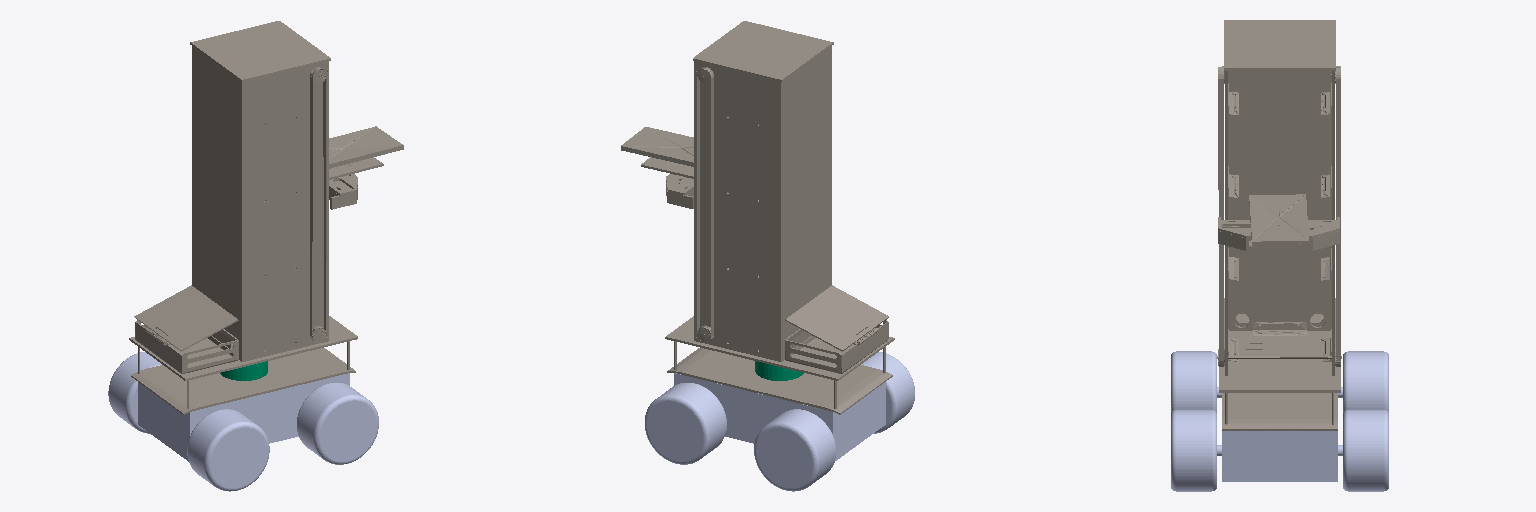
robot.urdf — assembly_urdf:
<?xml version="1.0" encoding="utf-8"?>
<!-- This URDF was automatically created by SolidWorks to URDF Exporter! Originally created by [author] ([email redacted]) 
     Commit Version: 1.6.0-4-g7f85cfe  Build Version: 1.6.7995.38578
     For more information, please see http://wiki.ros.org/sw_urdf_exporter -->
<robot
  name="assembly_urdf">
  <link
    name="base_link">
    <inertial>
      <origin
        xyz="-8.2112E-05 1.6653E-16 0.027016"    
        rpy="0 0 0" />
      <mass
        value="20" />
      <inertia
        ixx="0.013351"
        ixy="7.6799E-18"
        ixz="1.0856E-05"
        iyy="0.030427"
        iyz="-4.6222E-18"
        izz="0.039051" />
    </inertial>
    <visual>
      <origin
        xyz="0 0 0"
        rpy="0 0 0" />
      <geometry>
        <mesh
          filename="package://ugv/meshes/base_link.STL" />
      </geometry>
      <material
        name="iron">
        <color
          rgba="0.79216 0.81961 0.93333 1" />
      </material>
    </visual>
    <collision>
      <origin
        xyz="0 0 0"
        rpy="0 0 0" />
      <geometry>
        <mesh
          filename="package://ugv/meshes/base_link.STL" />
      </geometry>
    </collision>
  </link>

 <link
    name="mech_body_link">
    <inertial>
      <origin
        xyz="-0.00066907 -0.00010039 0.26625"
        rpy="0 0 0" />
      <mass
        value="1" />
      <inertia
        ixx="0.5342"
        ixy="-5.1885E-06"
        ixz="-0.00017749"
        iyy="0.58665"
        iyz="-2.9263E-10"
        izz="0.13785" />
    </inertial>
    <visual>
      <origin
        xyz="-0.21 -0.117 -0.15"
        rpy="0 0 0" />
      <geometry>
        <mesh
          filename="package://assembly_urdf/meshes/mech_body_link.STL" />
      </geometry>
      <material
        name="">
        <color
          rgba="0.65098 0.61961 0.58824 1" />
      </material>
    </visual>
    <collision>
      <origin
        xyz="-0.21 -0.117 -0.15"
        rpy="0 0 0" />
      <geometry>
        <mesh
          filename="package://assembly_urdf/meshes/mech_body_link.STL" />
      </geometry>
    </collision>
  </link>
   <joint
    name="mech_body_joint"
    type="fixed">
    <origin
      xyz="0 0 0.1"
      rpy="0 0 0" />
    <parent
      link="base_link" />
    <child
      link="mech_body_link" />
  </joint>
<link
    name="lifter_link1">
    <inertial>
      <origin
        xyz="-0.0010917 0.0024631 0.015031"
        rpy="0 0 0" />
      <mass
        value="0.1333" />
      <inertia
        ixx="0.006032"
        ixy="1.8666E-05"
        ixz="1.6901E-05"
        iyy="0.00074855"
        iyz="-5.4338E-18"
        izz="0.0066802" />
    </inertial>
    <visual>
      <origin
        xyz="0 0 0"
        rpy="0 0 0" />
      <geometry>
        <mesh
          filename="package://assembly_urdf/meshes/lifter_link.STL" />
      </geometry>
      <material
        name="">
        <color
          rgba="0.65098 0.61961 0.58824 1" />
      </material>
    </visual>
    <collision>
      <origin
        xyz="0 0 0"
        rpy="0 0 0" />
      <geometry>
        <mesh
          filename="package://assembly_urdf/meshes/lifter_link.STL" />
      </geometry>
    </collision>
  </link>
  <joint
    name="lifter_joint1"
    type="prismatic">
    <origin
      xyz="0.14 -0.115 0"
      rpy="0 0 0" />
    <parent
      link="mech_body_link" />
    <child
      link="lifter_link1" />
    <axis
      xyz="0 0 1" />
    <limit
      lower="0.12"
      upper="0.65"
      effort="0"
      velocity="0.5" />
  </joint>
<link
    name="lifter_link2">
    <inertial>
      <origin
        xyz="-0.0010917 0.0024631 0.015031"
        rpy="0 0 0" />
      <mass
        value="0.1333" />
      <inertia
        ixx="0.006032"
        ixy="1.8666E-05"
        ixz="1.6901E-05"
        iyy="0.00074855"
        iyz="-5.4338E-18"
        izz="0.0066802" />
    </inertial>
    <visual>
      <origin
        xyz="0 -0.23 0"
        rpy="0 0 0" />
      <geometry>
        <mesh
          filename="package://assembly_urdf/meshes/lifter_link.STL" />
      </geometry>
      <material
        name="">
        <color
          rgba="0.65098 0.61961 0.58824 1" />
      </material>
    </visual>
    <collision>
      <origin
        xyz="0 0.23 0"
        rpy="0 0 0" />
      <geometry>
        <mesh
          filename="package://assembly_urdf/meshes/lifter_link.STL" />
      </geometry>
    </collision>
  </link>
  <joint
    name="lifter_joint2"
    type="prismatic">
    <origin
      xyz="0.14 0.115 0"
      rpy="0 0 0" />
    <parent
      link="mech_body_link" />
    <child
      link="lifter_link2" />
    <axis
      xyz="0 0 1" />
    <limit
      lower="0.12"
      upper="0.65"
      effort="0"
      velocity="0.5" />
    <mimic joint="lifter_joint1" multiplier="1.0" offset="0.0"/>
  </joint>

 <link
    name="revolute_link">
    <inertial>
      <origin
        xyz="0.0025745 7.0102E-05 0.002418"
        rpy="0 0 0" />
      <mass
        value="0.24127" />
      <inertia
        ixx="0.00082987"
        ixy="-6.3952E-05"
        ixz="8.2136E-09"
        iyy="0.0031767"
        iyz="1.9093E-10"
        izz="0.0040013" />
    </inertial>
    <visual>
      <origin
        xyz="-0.105 -0.0575 0"
        rpy="0 0 0" />
      <geometry>
        <mesh
          filename="package://assembly_urdf/meshes/revolute_link.STL" />
      </geometry>
      <material
        name="">
        <color
          rgba="0.64706 0.61961 0.58824 1" />
      </material>
    </visual>
    <collision>
      <origin
        xyz="0.055 0.115 0.031"
        rpy="0 0 0" />
      <geometry>
        <mesh
          filename="package://assembly_urdf/meshes/revolute_link.STL" />
      </geometry>
    </collision>
  </link>
  <joint
    name="revolute_joint"
    type="revolute">
    <origin
      xyz="0.055 0.115 0.031"
      rpy="0 0 0" />
    <parent
      link="lifter_link1" />
    <child
      link="revolute_link" />
    <axis
      xyz="0 0 1" />
    <limit
      lower="-0.823599"
      upper="0.823599"
      effort="0"
      velocity="0" />
  </joint>
 <link
    name="slider_link">
    <inertial>
      <origin
        xyz="-6.8974E-08 -0.0017422 0.0079516"
        rpy="0 0 0" />
      <mass
        value="0.31656" />
      <inertia
        ixx="0.0028731"
        ixy="-8.5834E-13"
        ixz="-2.0401E-11"
        iyy="0.0036775"
        iyz="-2.4369E-09"
        izz="0.00080775" />
    </inertial>
    <visual>
      <origin
        xyz="-0.055 -0.0575 0.031"
        rpy="1.5708 0 1.598" />
      <geometry>
        <mesh
          filename="package://assembly_urdf/meshes/slider_link.STL" />
      </geometry>
      <material
        name="">
        <color
          rgba="0.65098 0.61961 0.58824 1" />
      </material>
    </visual>
    <collision>
      <origin
        xyz="0.055 0.0575 0.031"
        rpy="1.5708 0 1.598" />
      <geometry>
        <mesh
          filename="package://assembly_urdf/meshes/slider_link.STL" />
      </geometry>
    </collision>
  </link>
  <joint
    name="slider_joint"
    type="prismatic">
    <origin
      xyz="0 0 0"
      rpy="0 0 0" />
    <parent
      link="revolute_link" />
    <child
      link="slider_link" />
    <axis
      xyz="1 0 0" />
    <limit
      lower="-0.14366"
      upper="0.12776"
      effort="0"
      velocity="0" />
  </joint> 
   <link
    name="WR1-link">
    <inertial>
      <origin
        xyz="0 0.043367 2.7756E-17"
        rpy="0 0 0" />
      <mass
        value="0.561" />
      <inertia
        ixx="0.0031906"
        ixy="2.0347E-19"
        ixz="-6.8359E-20"
        iyy="0.0044645"
        iyz="1.1704E-19"
        izz="0.0031906" />
    </inertial>
    <visual>
      <origin
        xyz="0 0 0"
        rpy="0 0 0" />
      <geometry>
        <mesh
          filename="package://ugv/meshes/FR-link.STL" />
      </geometry>
      <material
        name="">
        <color
          rgba="0.79216 0.81961 0.93333 1" />
      </material>
    </visual>
    <collision>
      <origin
        xyz="0 0 0"
        rpy="0 0 0" />
      <geometry>
        <mesh
          filename="package://ugv/meshes/FR-link.STL" />
      </geometry>
    </collision>
  </link>
  <joint
    name="WR1-joint"
    type="continuous">
    <origin
      xyz="0.1285 -0.20347 0.0262"
      rpy="0 0 0" />
    <parent
      link="base_link" />
    <child
      link="WR1-link" />
    <axis
      xyz="0 1 0" />
  </joint>
  <link
    name="WL1-link">
    <inertial>
      <origin
        xyz="-3.4694E-18 -0.043367 2.7756E-17"
        rpy="0 0 0" />
      <mass
        value="0.561" />
      <inertia
        ixx="0.0031906"
        ixy="1.547E-19"
        ixz="-2.1838E-19"
        iyy="0.0044645"
        iyz="3.7794E-20"
        izz="0.0031906" />
    </inertial>
    <visual>
      <origin
        xyz="0 0 0"
        rpy="0 0 0" />
      <geometry>
        <mesh
          filename="package://ugv/meshes/BL-link.STL" />
      </geometry>
      <material
        name="">
        <color
          rgba="0.79216 0.81961 0.93333 1" />
      </material>
    </visual>
    <collision>
      <origin
        xyz="0 0 0"
        rpy="0 0 0" />
      <geometry>
        <mesh
          filename="package://ugv/meshes/BL-link.STL" />
      </geometry>
    </collision>
  </link>
  <joint
    name="WL1-joint"
    type="continuous">
    <origin
      xyz="-0.1285 0.20347 0.0262"
      rpy="0 0 0" />
    <parent
      link="base_link" />
    <child
      link="WL1-link" />
    <axis
      xyz="0 1 0" />
  </joint>
  <link
    name="WR2-link">
    <inertial>
      <origin
        xyz="6.9389E-18 0.043367 2.7756E-17"
        rpy="0 0 0" />
      <mass
        value="0.561" />
      <inertia
        ixx="0.0031906"
        ixy="1.6445E-19"
        ixz="-1.0362E-38"
        iyy="0.0044645"
        iyz="6.7508E-36"
        izz="0.0031906" />
    </inertial>
    <visual>
      <origin
        xyz="0 0 0"
        rpy="0 0 0" />
      <geometry>
        <mesh
          filename="package://ugv/meshes/BR-link.STL" />
      </geometry>
      <material
        name="">
        <color
          rgba="0.79216 0.81961 0.93333 1" />
      </material>
    </visual>
    <collision>
      <origin
      xyz="0 0 0"
      rpy="1 0 0" />
      <geometry>
        <mesh
          filename="package://ugv/meshes/BR-link.STL" />
      </geometry>
    </collision>
  </link>
  <joint
    name="WR2-joint"
    type="continuous">
    <origin
      xyz="-0.1285 -0.20347 0.0262"
      rpy="0 0 0" />
    <parent
      link="base_link" />
    <child
      link="WR2-link" />
    <axis
      xyz="0 1 0" />
    <mimic joint="WR1-joint" multiplier="1.0" offset="0.0"/>
  </joint>
   <link
    name="WL2-link">
    <inertial>
      <origin
        xyz="-1.1102E-16 -0.043367 -2.7756E-17"
        rpy="0 0 0" />
      <mass
        value="0.561" />
      <inertia
        ixx="0.0031906"
        ixy="9.0379E-19"
        ixz="-1.6026E-20"
        iyy="0.0044645"
        iyz="8.5342E-19"
        izz="0.0031906" />
    </inertial>
    <visual>
      <origin
        xyz="0 0 0"
        rpy="0 0 0" />
      <geometry>
        <mesh
          filename="package://ugv/meshes/FL-link.STL" />
      </geometry>
      <material
        name="">
        <color
          rgba="0.79216 0.81961 0.93333 1" />
      </material>
    </visual>
    <collision>
      <origin
        xyz="0 0 0"
        rpy="0 0 0" />
      <geometry>
        <mesh
          filename="package://ugv/meshes/FL-link.STL" />
      </geometry>
         <surface>
      <friction>
        <ode>
          <mu>1</mu> <!-- Coefficient of friction -->
          <mu2>0.05</mu2> <!-- Secondary coefficient -->
        </ode>
      </friction>
    </surface>
    </collision>
  </link>
  <joint
    name="WL2-joint"
    type="continuous">
    <origin
      xyz="0.1285 0.20347 0.0262"
      rpy="0 0 0" />
    <parent
      link="base_link" />
    <child
      link="WL2-link" />
    <axis
      xyz="0 1 0" />
    <mimic joint="WL1-joint" multiplier="1.0" offset="0.0"/>

  </joint>

   <link name="laser">
    <inertial>
      <origin xyz="0 0 0" rpy="0 0 0"/>
      <mass value="0.1"/>
      <inertia ixx="0.01" ixy="0.0" ixz="0.0" iyy="0.01" iyz="0.0" izz="0.01"/>
    </inertial>
    <visual>
      <origin xyz="0 0 0" rpy="0 0 0"/>
      <geometry>
        <cylinder radius="0.05" length="0.05"/>
      </geometry>
      <material name="gray"/>
    </visual>
    <collision>
      <origin xyz="0 0 0" rpy="0 0 0"/>
      <geometry>
        <cylinder radius="0.05" length="0.05"/>
      </geometry>
    </collision>
 </link>

  <joint name="lidar_joint" type="fixed">
    <parent link="base_link"/>
    <child link="laser"/>
    <origin xyz="0 0 0.125" rpy="0 0 0"/>
  </joint>

    <gazebo reference = "laser">
      <sensor type="ray" name="lidar_sensor">
        <pose>0 0 0 0 0 0</pose>
        <visualize>true</visualize>
        <update_rate>50</update_rate>
        <ray>
          <scan>
            <horizontal>
              <samples>360</samples>
              <resolution>1</resolution>
              <min_angle>-3.14</min_angle>
              <max_angle>3.14</max_angle>
            </horizontal>
          </scan>
          <range>
            <min>0.3</min>
            <max>8.0</max>
            <resolution>0.01</resolution>
          </range>
          <noise>
            <type>gaussian</type>
            <mean>0.0</mean>
            <stddev>0.01</stddev>
          </noise>
        </ray>
        <plugin name="laser_controller" filename="libgazebo_ros_laser.so">
          <topicName>/scan</topicName>
          <frameName>laser</frameName>
        </plugin>
      </sensor>
    </gazebo>

<gazebo>
    <plugin name="gazebo_ros_diff_drive" filename="libgazebo_ros_diff_drive.so">
    <parameter name="use_sim_time" value="true"/>
    <broadcastTF>true</broadcastTF>
    <updateRate>50.0</updateRate>
    <commandTopic>cmd_vel</commandTopic>
    <odometryTopic>odom</odometryTopic>
    <odometryFrame>odom</odometryFrame>
    <robotBaseFrame>base_link</robotBaseFrame>
    <publishWheelTF>true</publishWheelTF>
    <publishOdomTF>true</publishOdomTF>
    <publishWheelJointState>true</publishWheelJointState>
    <rosDebugLevel>info</rosDebugLevel>
    <odometrySource>1</odometrySource>
    <publishTf>1</publishTf>
  
    <leftJoint>WL1-joint</leftJoint>
    <rightJoint>WR1-joint</rightJoint>  
    <wheelSeparation>0.496</wheelSeparation>  <!--0.496-->
    <wheelDiameter>0.15</wheelDiameter>  <!--0.15-->
    
    <wheelAcceleration>10.0</wheelAcceleration>
    <wheelTorque>50.0</wheelTorque>
    <torque>50.0</torque>
    <covariance_x>0.0001</covariance_x>
    <covariance_y>0.0001</covariance_y>
    <covariance_yaw>0.01</covariance_yaw>
  </plugin>
</gazebo>


<gazebo>
  <plugin name="joint_lifter" filename="libgazebo_ros_joint_controller.so">
    <joint_name>lifter_joint1</joint_name>
    <p_gain>1.0</p_gain>
  </plugin>
</gazebo>

<gazebo>
  <plugin name="joint_revolute" filename="libgazebo_ros_joint_controller.so">
    <joint_name>revolute_joint</joint_name>
    <p_gain>1.0</p_gain>
  </plugin>
</gazebo>

<gazebo>
  <plugin name="joint_slider" filename="libgazebo_ros_joint_controller.so">
    <joint_name>slider_joint</joint_name>
    <p_gain>1.0</p_gain>
  </plugin>
</gazebo>

</robot>

--- What the picture shows (computed from the rendered views, not written in the file) ---
Views: 3 orthographic renders of the robot side by side, from view 1: azimuth 30°, elevation 25°; view 2: azimuth 150°, elevation 25°; view 3: azimuth 270°, elevation 25°.
Robot: assembly_urdf — 11 links, 10 joints (1 revolute, 4 continuous, 3 prismatic, 2 fixed); root link base_link; default pose: joints at zero except 2 at the middle of their limits (lifter_joint1 = 0.385, lifter_joint2 = 0.385).
Visible links, largest first — view 1: mech_body_link, base_link, WR2-link, WR1-link, slider_link, WL1-link, lifter_link1, laser, revolute_link; view 2: mech_body_link, base_link, WL1-link, WL2-link, slider_link, WR2-link, lifter_link1, laser, revolute_link; view 3: mech_body_link, base_link, WR1-link, WL2-link, slider_link, WL1-link, WR2-link, lifter_link1.
Boxes of the visible links, x1,y1,x2,y2 form: mech_body_link: [129, 21, 357, 414]; base_link: [138, 373, 349, 461]; WR2-link: [187, 409, 269, 491]; WR1-link: [297, 382, 378, 464]; slider_link: [329, 126, 403, 168]; WL1-link: [108, 352, 161, 433]; lifter_link1: [329, 174, 357, 209]; laser: [220, 361, 267, 380]; revolute_link: [329, 157, 383, 179]; mech_body_link: [665, 21, 894, 414]; base_link: [674, 373, 885, 460]; WL1-link: [754, 409, 835, 491]; WL2-link: [645, 383, 726, 464]; slider_link: [621, 127, 693, 166]; WR2-link: [861, 352, 914, 433]; lifter_link1: [666, 174, 693, 208]; laser: [755, 361, 803, 380]; revolute_link: [641, 157, 693, 178]; mech_body_link: [1217, 20, 1341, 430]; base_link: [1222, 431, 1337, 481]; WR1-link: [1171, 410, 1221, 491]; WL2-link: [1338, 410, 1388, 491]; slider_link: [1249, 194, 1308, 245]; WL1-link: [1338, 351, 1388, 412]; WR2-link: [1171, 351, 1221, 412]; lifter_link1: [1218, 217, 1339, 250].
Bounding box of the posed robot: 0.5554 × 0.4069 × 0.8702 m (x, y, z).
10 mesh visuals loaded from 9 distinct referenced files (9 binary STL).
